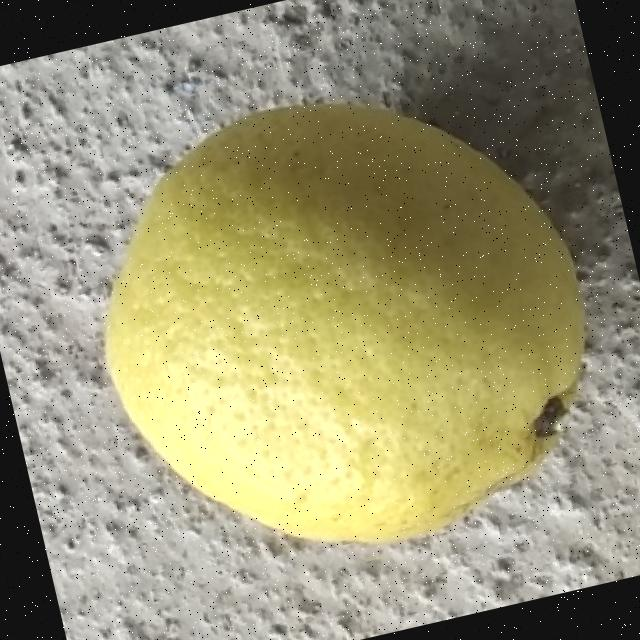Ripe: (56, 47, 633, 602)
